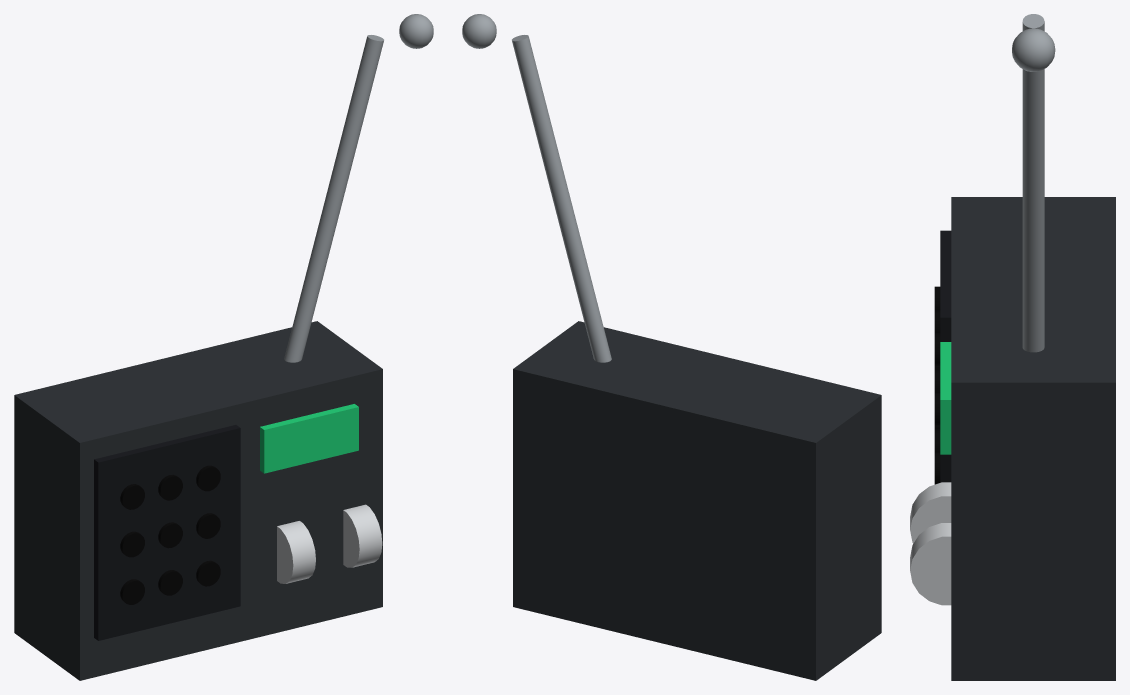
File: item_radio.fbx
3 renders of one model, left to right at view 1: azimuth 30°, elevation 25°; view 2: azimuth 150°, elevation 25°; view 3: azimuth 270°, elevation 25°, orthographic. The views are drawn at different scales.
Visible parts, largest first — view 1: M__item_radio; view 2: M__item_radio; view 3: M__item_radio.
Boxes of the visible parts, box(x1,y1,x2,y2) form: M__item_radio: box(14, 14, 433, 680); M__item_radio: box(462, 14, 881, 680); M__item_radio: box(910, 14, 1115, 680).
Size of the model in its own units: 0.203 by 0.278 by 0.075.
